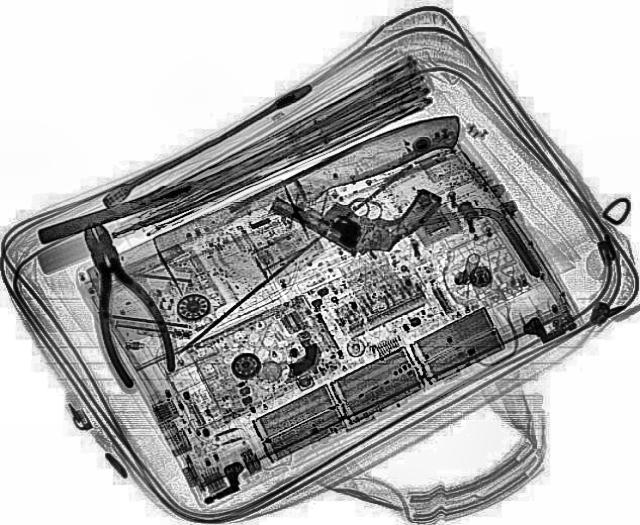Gun: (262, 137, 446, 270)
Knife: (67, 102, 510, 348)
Pliers: (52, 218, 188, 388)
